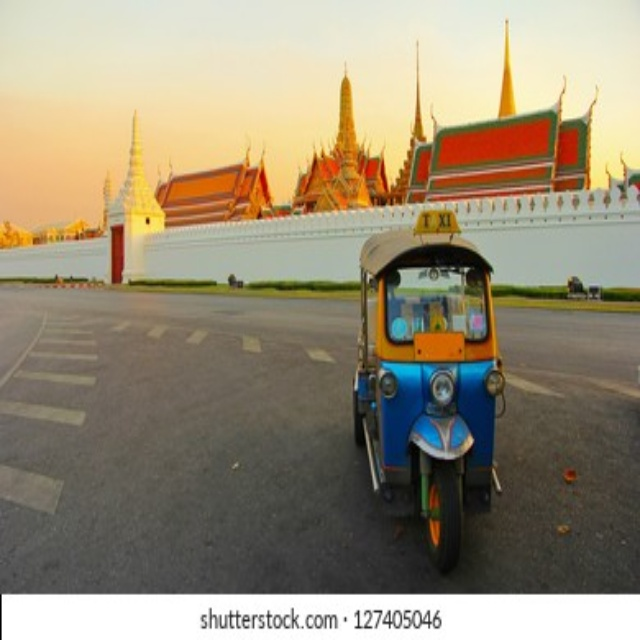Motorcycle: (351, 206, 504, 571)
